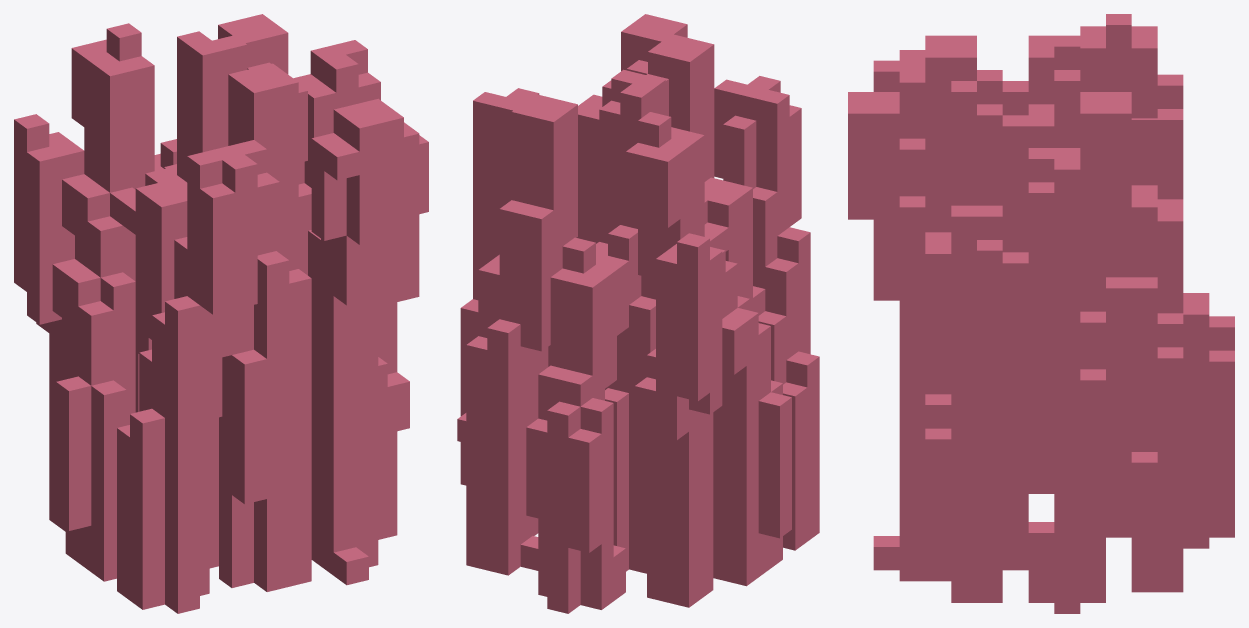
File: SmallCoral3.fbx
The picture shows the model from 3 angles, left to right: view 1: azimuth 30°, elevation 25°; view 2: azimuth 150°, elevation 25°; view 3: azimuth 270°, elevation 25°; orthographic projection. The views are drawn at different scales.
Parts seen in each view (by area): view 1: Cube.113; view 2: Cube.113; view 3: Cube.113.
Part boxes in pixels (x1,y1,x2,y2): Cube.113: (14,14,428,613); Cube.113: (457,14,819,613); Cube.113: (848,14,1234,613).
Bounding box in the file's own units: 53.03 × 74.24 × 53.03.
